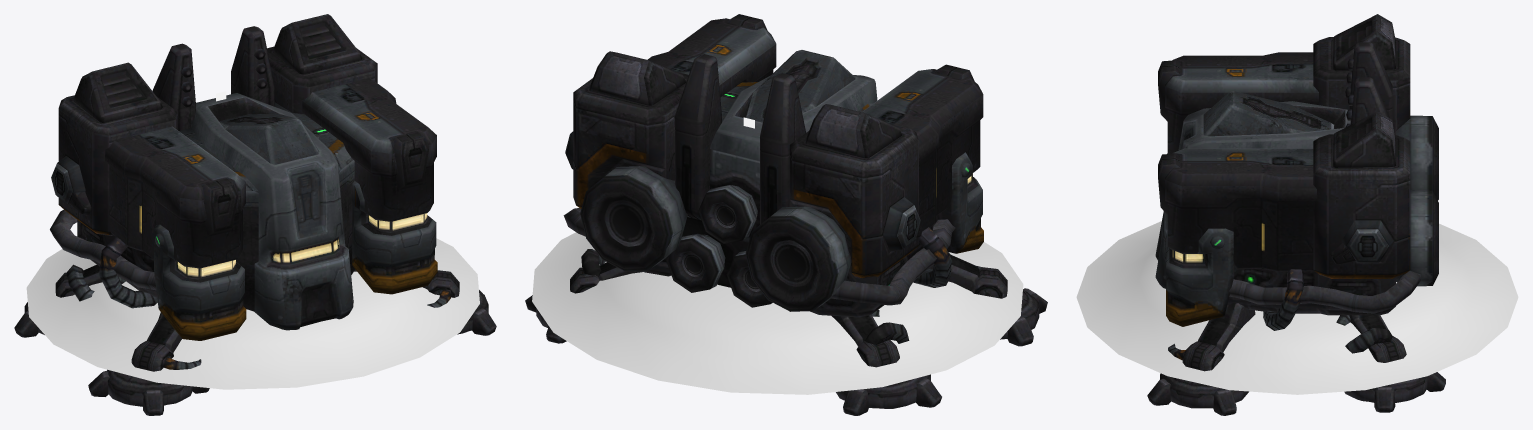
Rendered from Barracks.glb.
3 views of the same model, side by side, from view 1: azimuth 30°, elevation 25°; view 2: azimuth 150°, elevation 25°; view 3: azimuth 270°, elevation 25° (orthographic). The views are drawn at different scales.
Parts seen in each view (by area): view 1: Mesh, Sphere01distortion02; view 2: Mesh, Sphere01distortion02; view 3: Mesh, Sphere01distortion02.
Part boxes in pixels (left/top/right/bottom): Mesh: left=14, top=14, right=496, bottom=415; Sphere01distortion02: left=26, top=238, right=479, bottom=389; Mesh: left=525, top=14, right=1047, bottom=415; Sphere01distortion02: left=532, top=232, right=1023, bottom=394; Mesh: left=1147, top=14, right=1445, bottom=415; Sphere01distortion02: left=1076, top=221, right=1518, bottom=394.
Bounding box in the file's own units: 4.35 × 2.69 × 4.17.
Materials: 2 (1 with a texture image).
